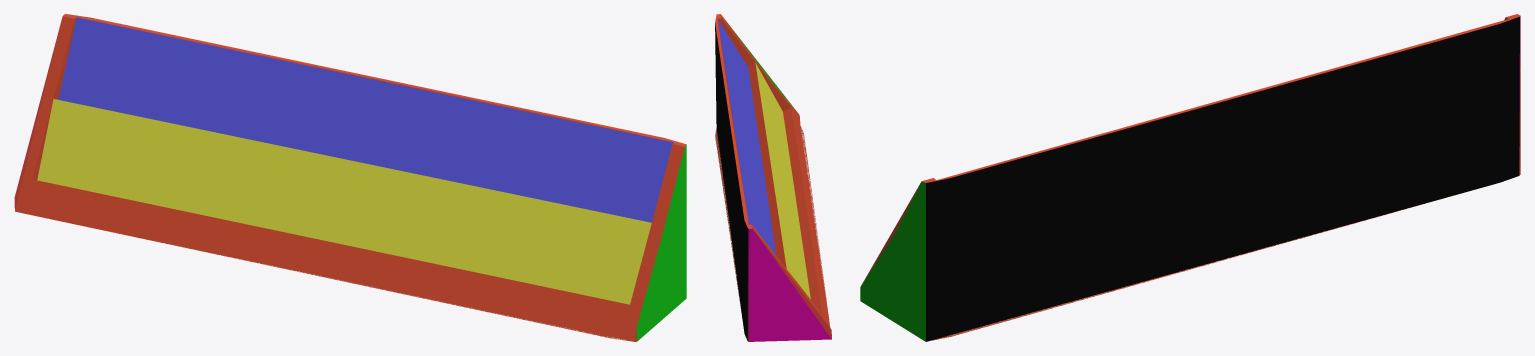
Rendered from rack.glb.
The picture shows the model from 3 angles, left to right: view 1: azimuth 30°, elevation 25°; view 2: azimuth 150°, elevation 25°; view 3: azimuth 270°, elevation 25°; orthographic projection. The views are drawn at different scales.
Parts seen in each view (by area): view 1: ImageToStl.com_Rack-and-tiles; view 2: ImageToStl.com_Rack-and-tiles; view 3: ImageToStl.com_Rack-and-tiles.
Part boxes in pixels (bbox=[...]): ImageToStl.com_Rack-and-tiles: bbox=[14, 14, 686, 341]; ImageToStl.com_Rack-and-tiles: bbox=[715, 14, 831, 341]; ImageToStl.com_Rack-and-tiles: bbox=[860, 14, 1520, 341].
Size of the model in its own units: 197 by 70 by 264.
